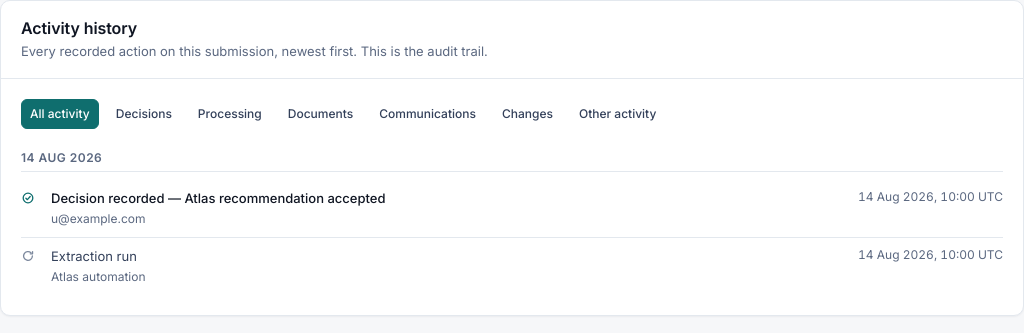
Test case: Audit timeline › filters events client-side and issues no new request
This screenshot has width=1024, height=333.
Expected: the text "Decision recorded — Atlas recommendation accepted" is shown, [51, 190, 386, 206]
Click the button "Processing".
click(230, 114)  # box [189, 98, 271, 128]
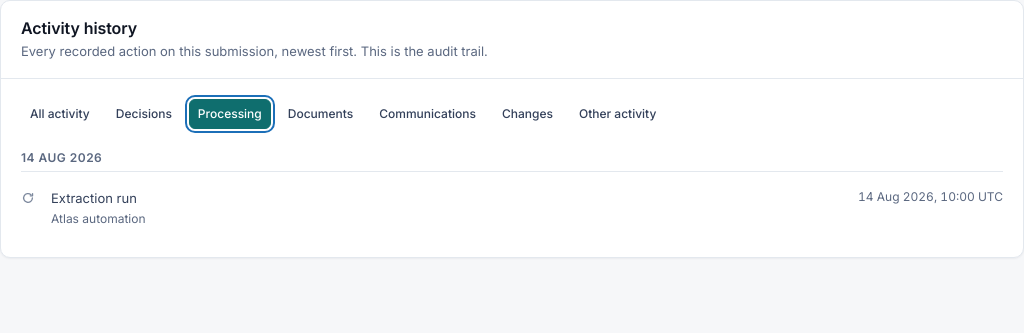
Expected: the text "Extraction run" is shown, [51, 190, 137, 206]
Expected: the text "Decision recorded — Atlas recommendation accepted" is gone
